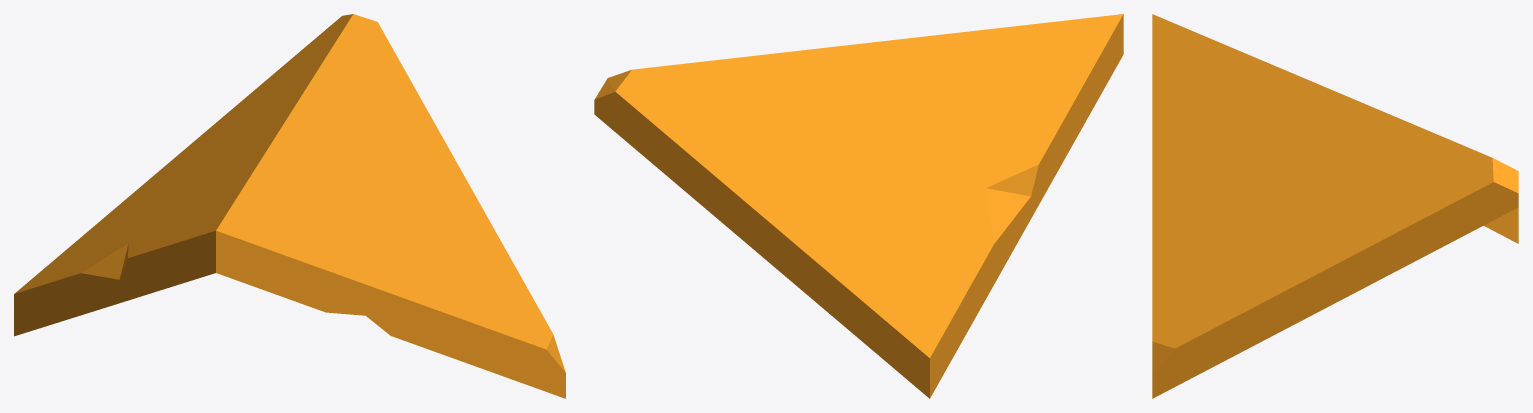
The model's file is SM_Buildings_RoofAngledCornerMiddle_1x1_01P.fbx.
3 views of the same model, side by side, from view 1: azimuth 30°, elevation 25°; view 2: azimuth 150°, elevation 25°; view 3: azimuth 270°, elevation 25° (orthographic). The views are drawn at different scales.
Visible parts, largest first — view 1: SM_Buildings_RoofAngledCornerMiddle_1x1_01P; view 2: SM_Buildings_RoofAngledCornerMiddle_1x1_01P; view 3: SM_Buildings_RoofAngledCornerMiddle_1x1_01P.
Part boxes in pixels (<box>): SM_Buildings_RoofAngledCornerMiddle_1x1_01P: <box>14,14,565,398</box>; SM_Buildings_RoofAngledCornerMiddle_1x1_01P: <box>594,14,1123,398</box>; SM_Buildings_RoofAngledCornerMiddle_1x1_01P: <box>1152,14,1518,398</box>.
Size of the model in its own units: 100 by 69.29 by 100.
